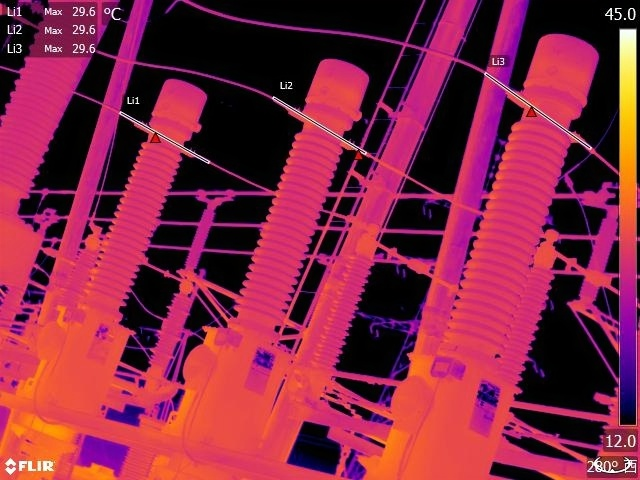current transformer: (374, 30, 608, 480), (165, 57, 377, 447), (28, 76, 210, 417)
post insulator: (1, 1, 127, 202), (315, 241, 384, 369), (496, 266, 560, 378), (144, 288, 196, 376), (577, 217, 619, 309), (64, 231, 104, 313), (180, 203, 224, 267)
switch: (360, 228, 463, 303), (540, 239, 616, 303), (142, 259, 196, 300)
